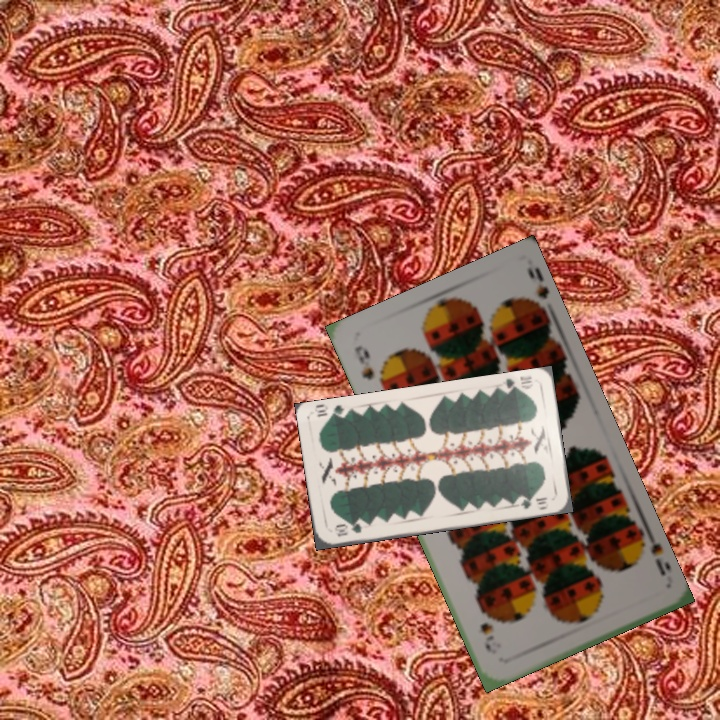G10: (498, 372, 535, 395), (330, 519, 365, 539)
S9: (630, 530, 672, 578), (350, 341, 377, 383)
